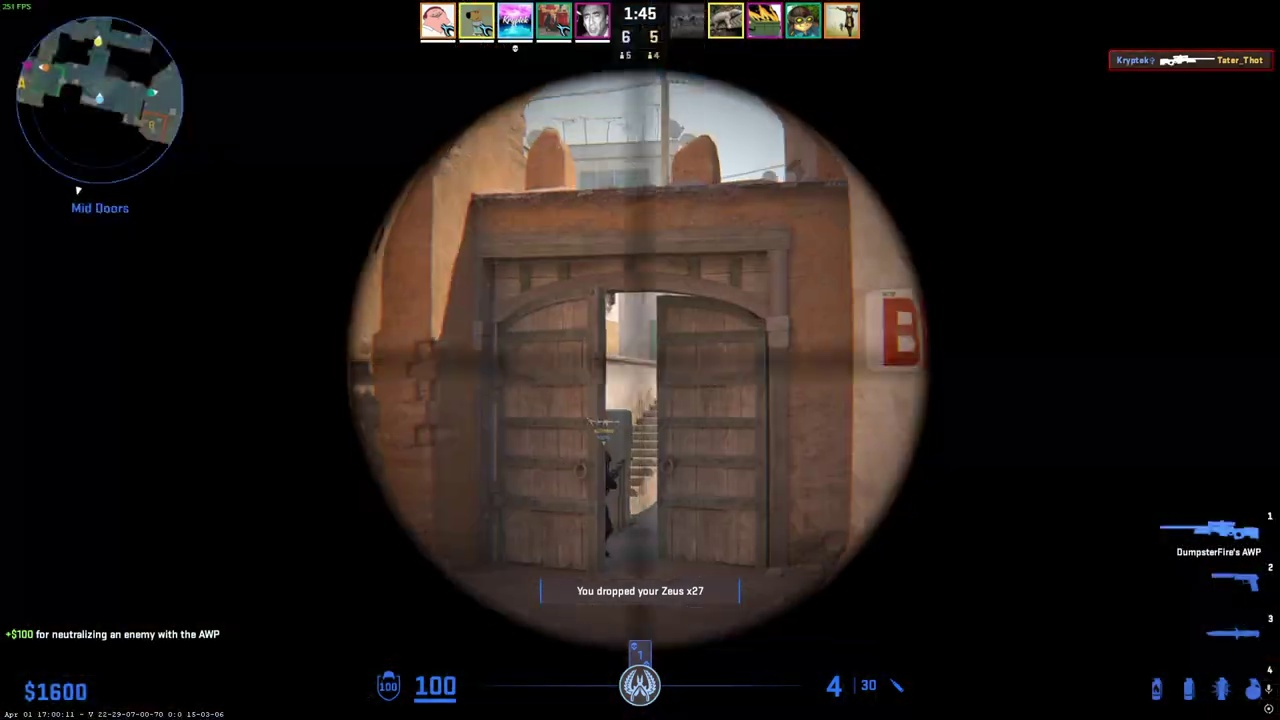CT: (600, 449, 619, 561)
